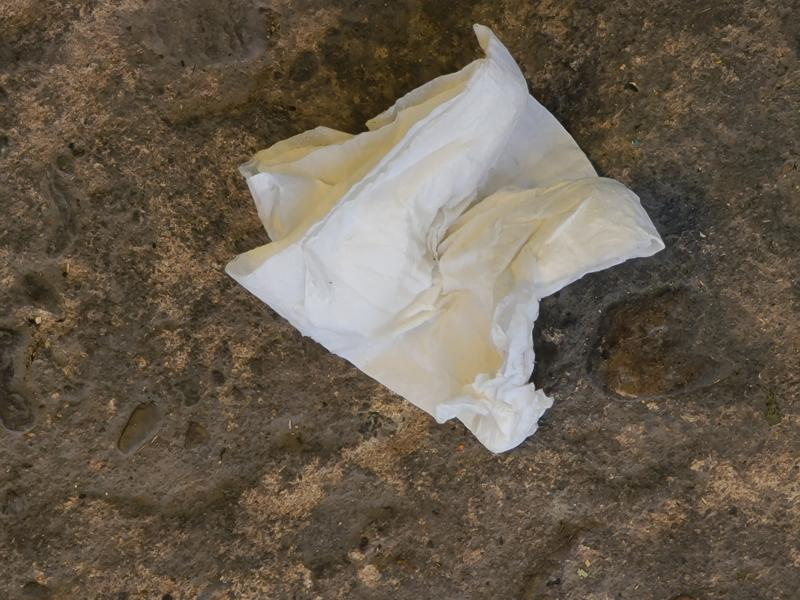papel: (224, 26, 666, 456)
